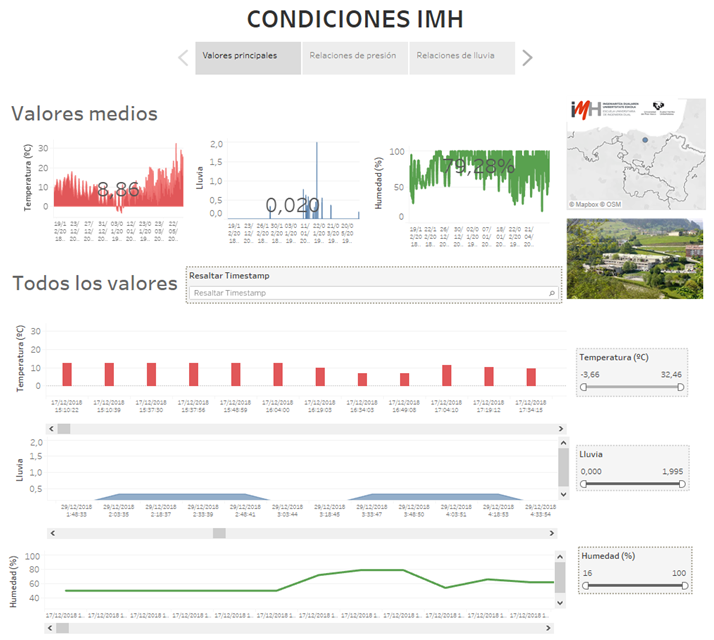

The dashboard page shown, as its layout file describes it:
{"tool":"tableau","page":{"name":"Dashboard 1","canvas":[1000,800],"ordinal":0},"visuals":[{"type":"worksheet","box":[8,8,305,55]},{"type":"worksheet","param":"Image/logo.png","box":[799,10,159,46]},{"type":"worksheet","title":"Mapa","mark":"Multipolygon","rows":["Latitud"],"cols":["Longitud"],"box":[800,15,198,163]},{"type":"worksheet","title":"Humedad (2)","mark":"Line","rows":["Humedad (%)"],"cols":["Timestamp"],"box":[517,69,259,167]},{"type":"worksheet","title":"Lluvia","mark":"Area","rows":["Lluvia"],"cols":["Timestamp"],"box":[263,73,243,158]},{"type":"worksheet","title":"T (2)","mark":"Area","rows":["Temperatura (ºC)"],"cols":["Timestamp"],"box":[19,75,237,153]},{"type":"worksheet","param":"Image/imh.jpg","box":[800,190,196,118]},{"type":"worksheet","box":[10,253,339,60]},{"type":"worksheet","title":"Lluvia (2)","mark":"Area","rows":["Lluvia"],"cols":["Timestamp"],"param":"[federated.0ziyao70qhrypl0zr7f15159x6w6].[none:Timestamp:ok]","box":[259,260,535,55]},{"type":"worksheet","title":"T","mark":"Bar","rows":["Temperatura (ºC)"],"cols":["Timestamp"],"box":[5,339,797,167]},{"type":"worksheet","title":"T","mark":"Bar","rows":["Temperatura (ºC)"],"cols":["Timestamp"],"param":"[federated.0ziyao70qhrypl0zr7f15159x6w6].[sum:Temperatura (ºC):qk]","box":[813,377,160,72]},{"type":"worksheet","title":"Lluvia (2)","mark":"Area","rows":["Lluvia"],"cols":["Timestamp"],"box":[6,507,798,150]},{"type":"worksheet","title":"Lluvia (2)","mark":"Area","rows":["Lluvia"],"cols":["Timestamp"],"param":"[federated.0ziyao70qhrypl0zr7f15159x6w6].[none:Lluvia:qk]","box":[813,519,162,68]},{"type":"worksheet","title":"Humedad","mark":"Line","rows":["Humedad (%)"],"cols":["Timestamp"],"param":"[federated.0ziyao70qhrypl0zr7f15159x6w6].[none:Humedad (%):qk]","box":[816,668,163,70]}]}

Visuals, with their boxes on the page's 1000x800 design canvas (x1, y1, x2, y2). These are canvas units, not pixel positions in the 714x640 screenshot, which may show the page scaled, cropped or inside an application window:
worksheet: [x1=8, y1=8, x2=313, y2=63]
worksheet: [x1=799, y1=10, x2=958, y2=56]
"Mapa" worksheet (Multipolygon marks): [x1=800, y1=15, x2=998, y2=178]
"Humedad (2)" worksheet (Line marks): [x1=517, y1=69, x2=776, y2=236]
"Lluvia" worksheet (Area marks): [x1=263, y1=73, x2=506, y2=231]
"T (2)" worksheet (Area marks): [x1=19, y1=75, x2=256, y2=228]
worksheet: [x1=800, y1=190, x2=996, y2=308]
worksheet: [x1=10, y1=253, x2=349, y2=313]
"Lluvia (2)" worksheet (Area marks): [x1=259, y1=260, x2=794, y2=315]
"T" worksheet (Bar marks): [x1=5, y1=339, x2=802, y2=506]
"T" worksheet (Bar marks): [x1=813, y1=377, x2=973, y2=449]
"Lluvia (2)" worksheet (Area marks): [x1=6, y1=507, x2=804, y2=657]
"Lluvia (2)" worksheet (Area marks): [x1=813, y1=519, x2=975, y2=587]
"Humedad" worksheet (Line marks): [x1=816, y1=668, x2=979, y2=738]
